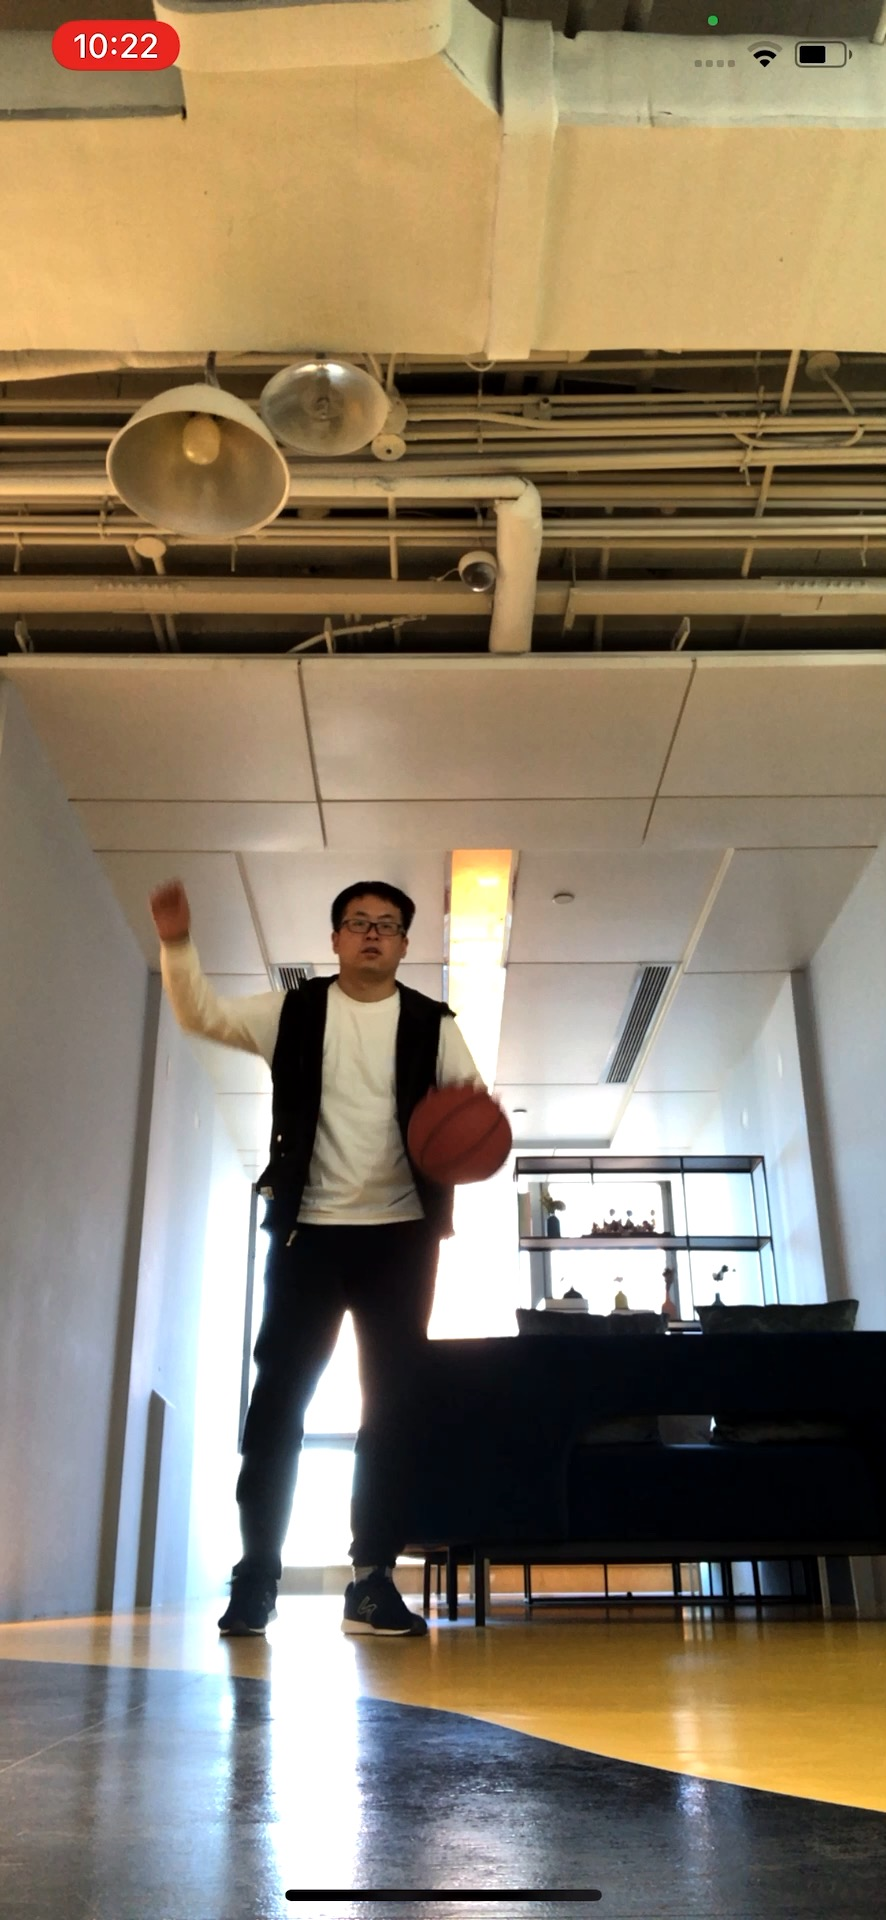ball: (406, 1084, 514, 1184)
